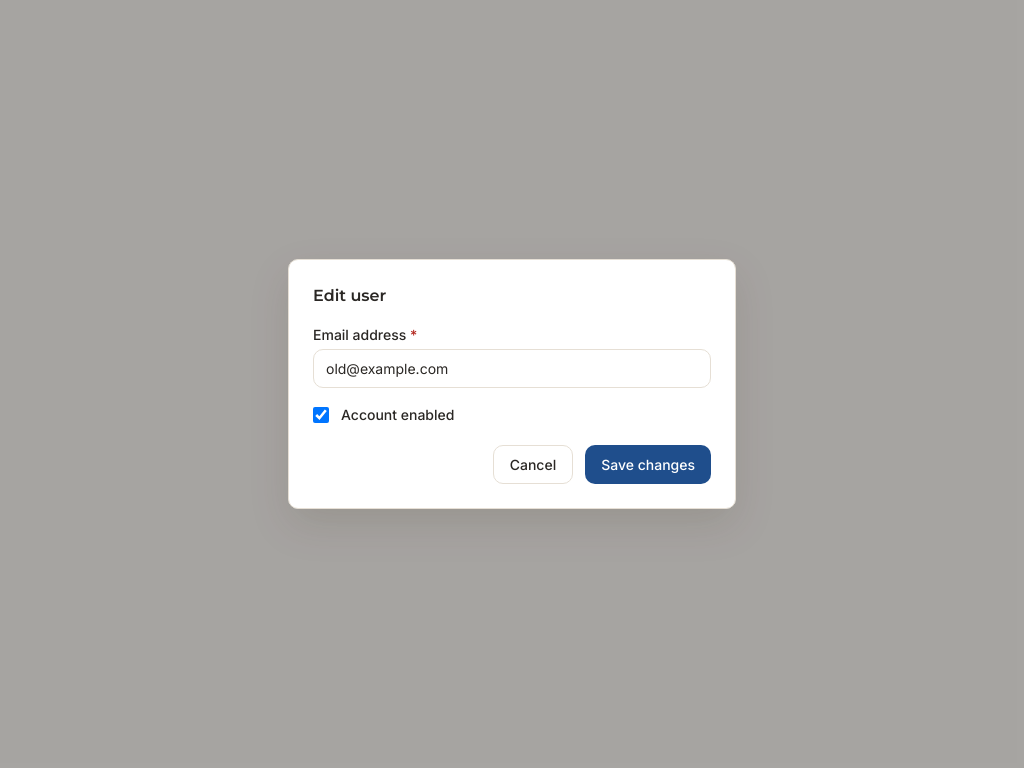
EditUserDialog — email-change confirmation › shows the confirmation step with the new address, and does NOT save yet
Replace the text in the field labelled "Email address *" with "new@example.com" at (512, 368), box x1=313 y1=349 x2=711 y2=388
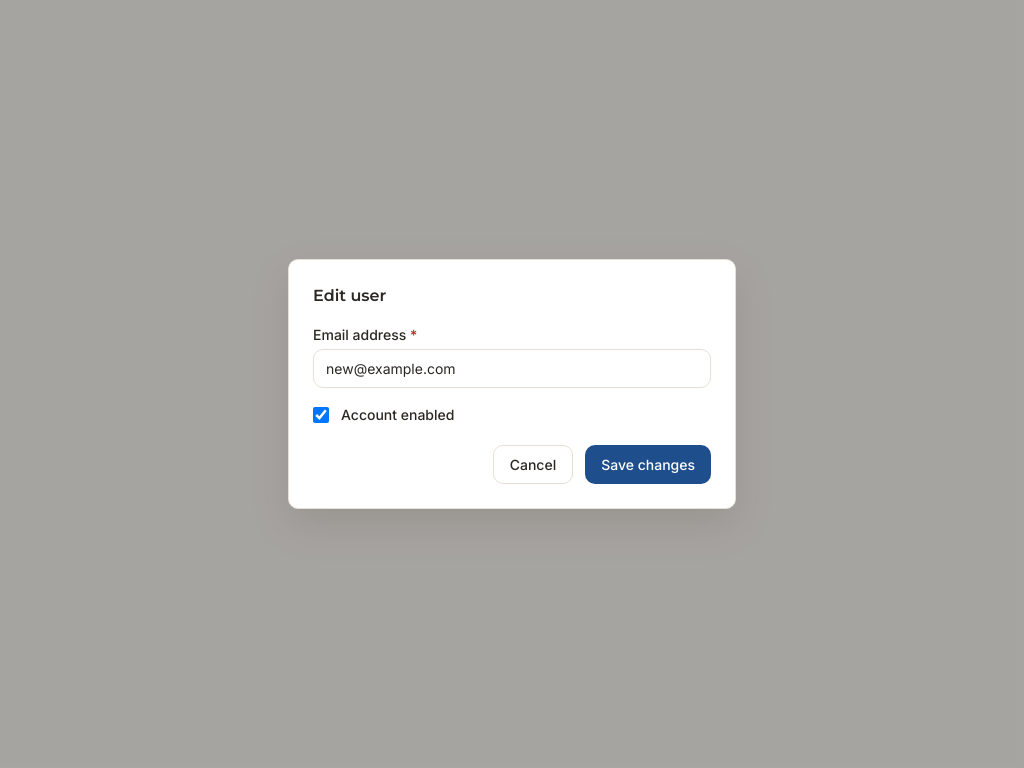
Click the button "Save changes" at (648, 464), box x1=585 y1=445 x2=711 y2=484
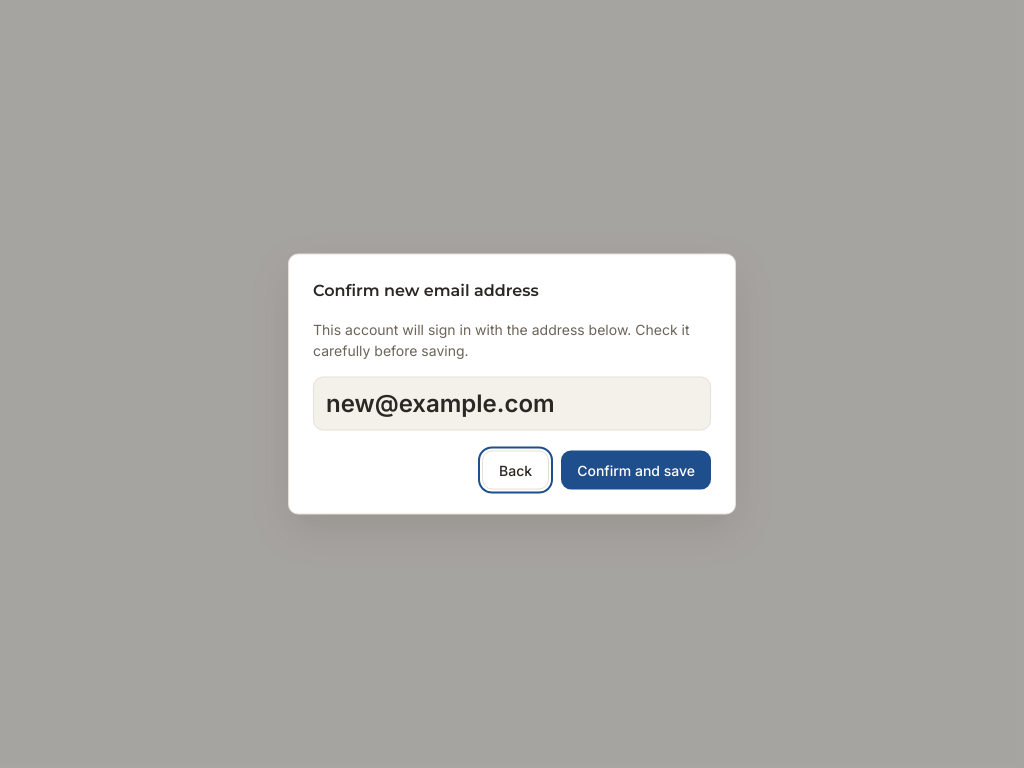
Check: the heading "Confirm new email address" is shown, box x1=313 y1=280 x2=539 y2=300
Check: the text "new@example.com" is shown, box x1=313 y1=376 x2=711 y2=430
